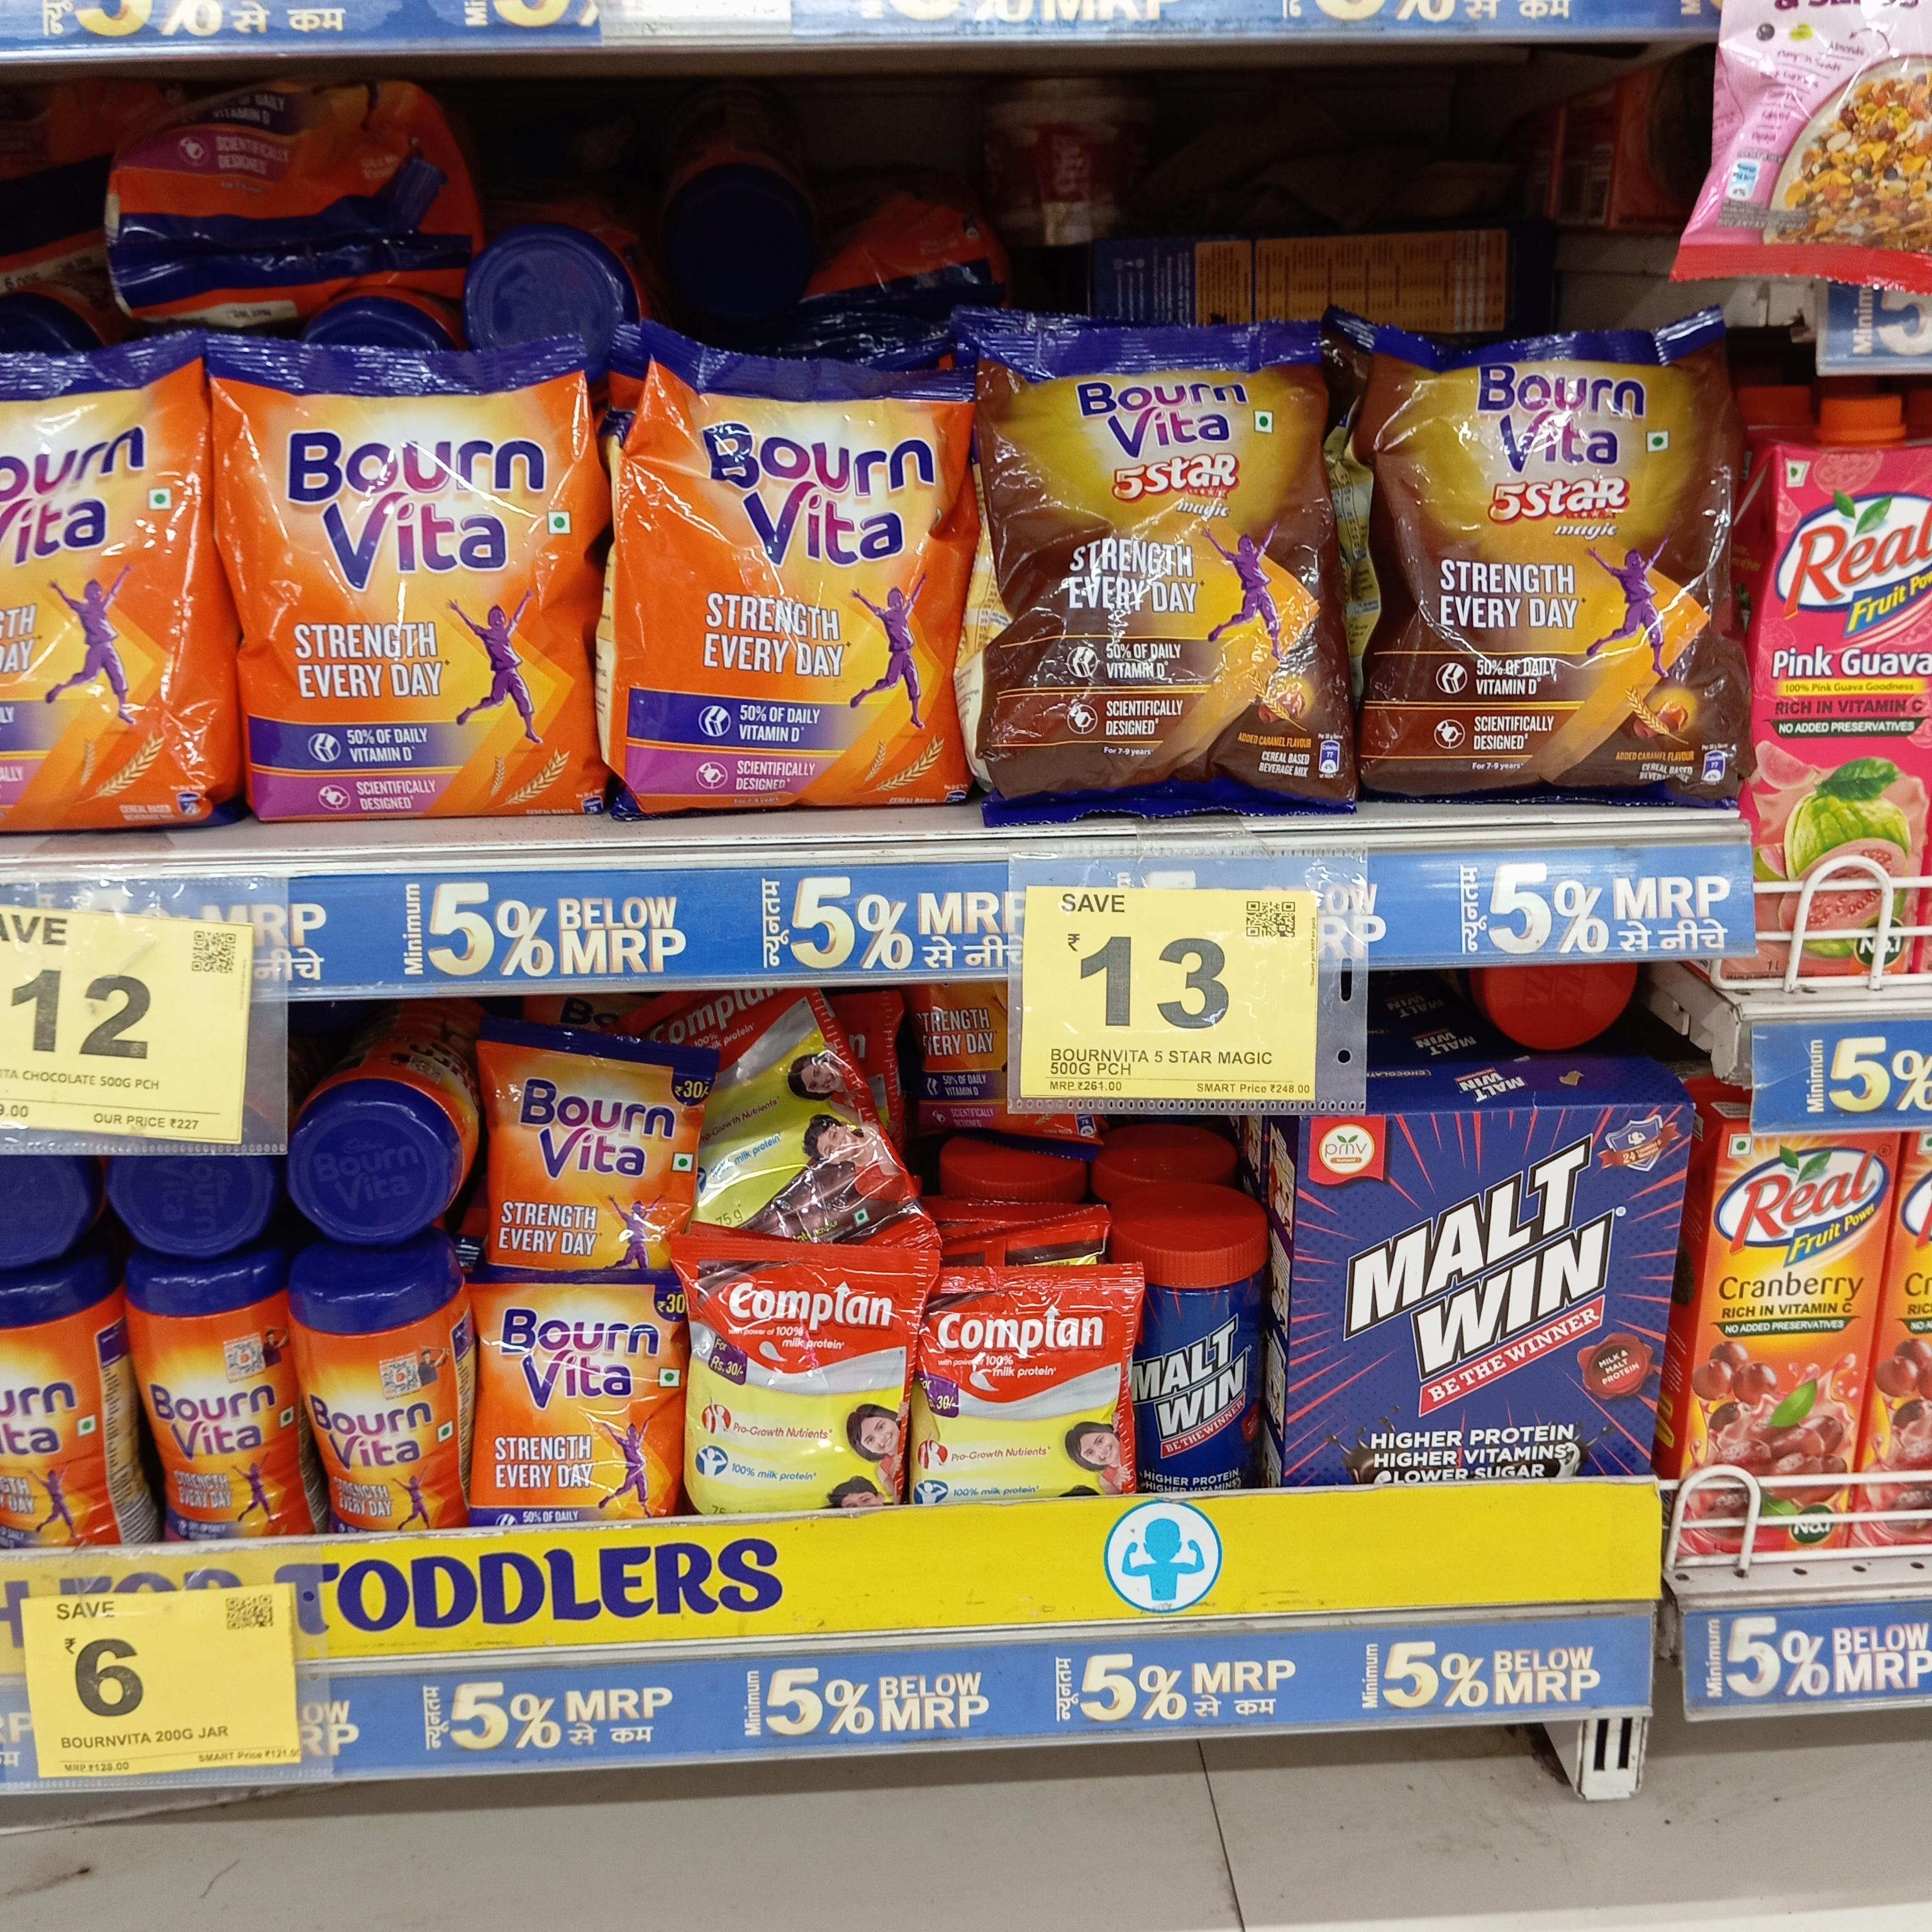BOURN_VITA_200_G_JAR: (143, 1269, 294, 1534), (310, 1270, 464, 1529), (5, 1281, 129, 1546)
BOURN_VITA_500_G_POUCH: (609, 318, 962, 817), (232, 341, 589, 824)
BOURN_VITA_75_G_POUCH: (471, 1269, 665, 1518), (487, 1021, 686, 1258)
BOURN_VITA_FIVE_STAR_MAGIC_500_G_POUCH: (1371, 318, 1741, 814), (971, 317, 1348, 794)
